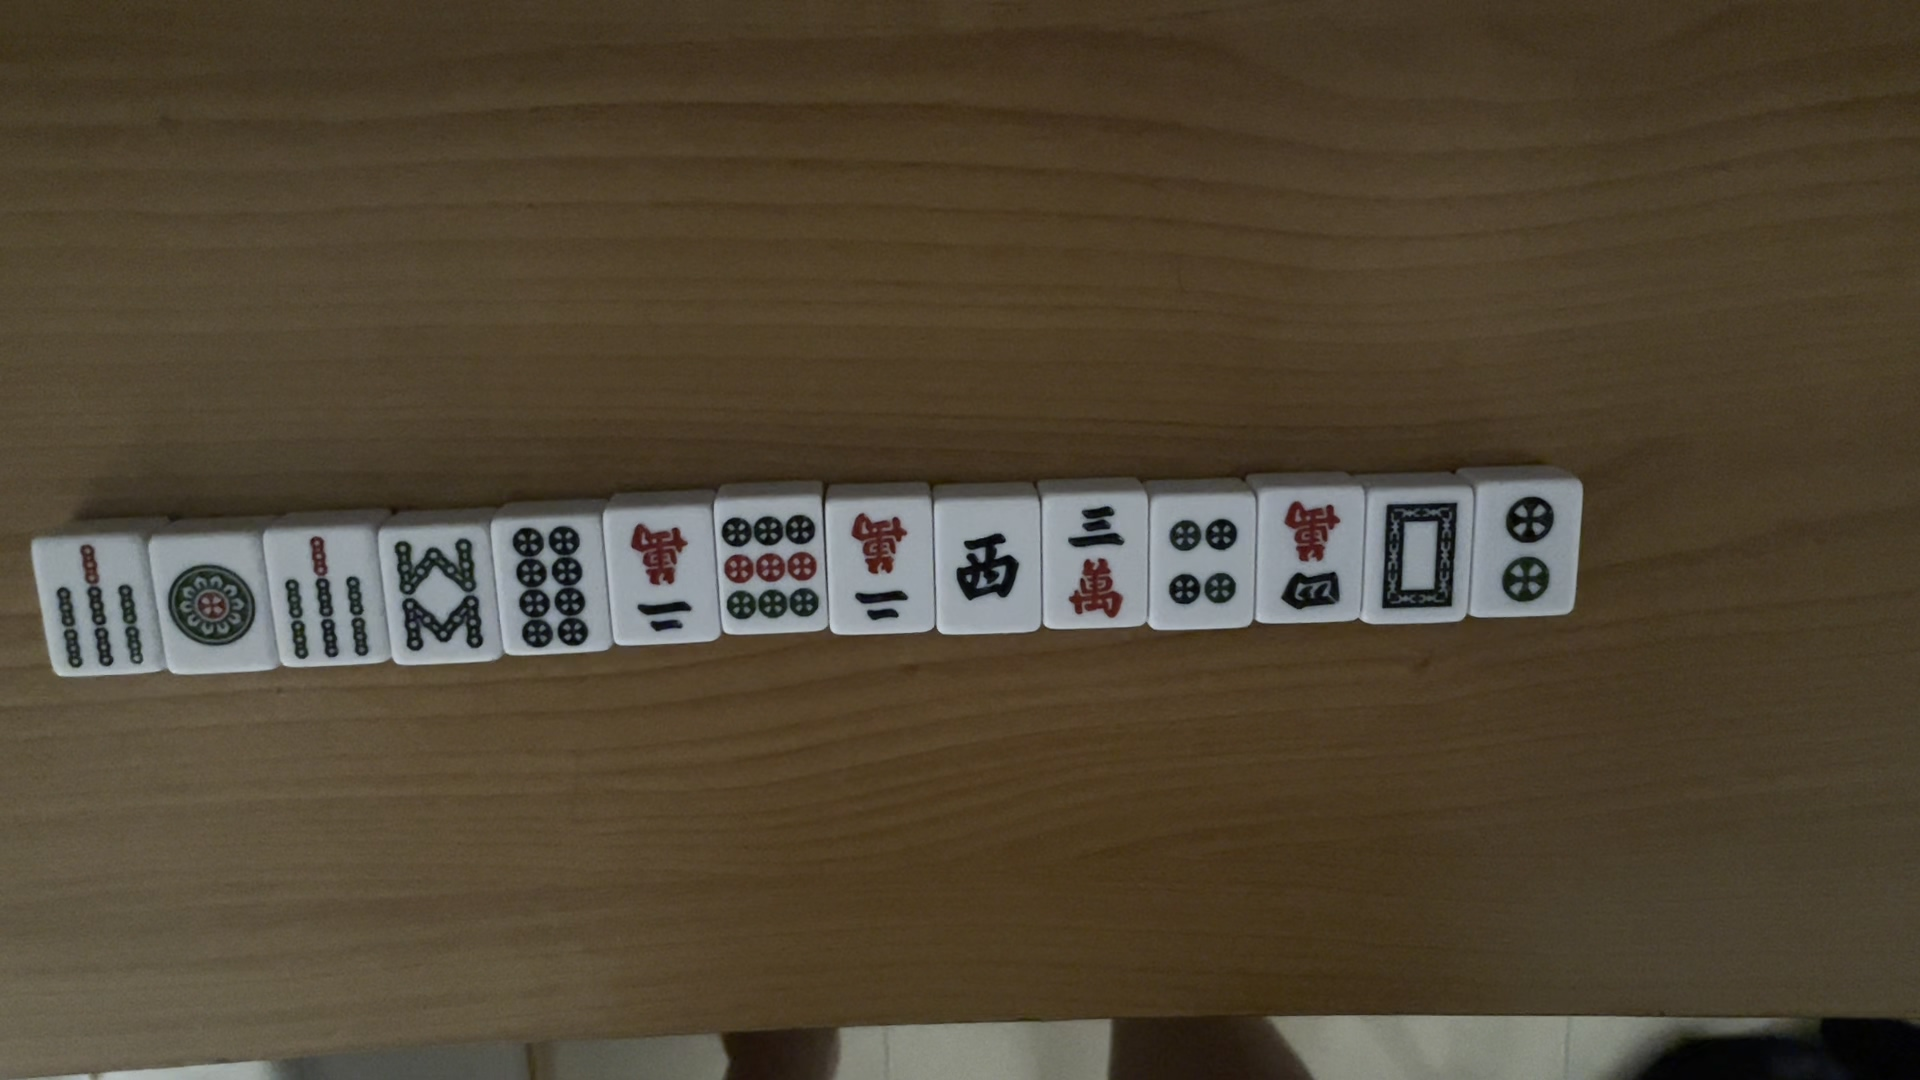b-7: (42, 538, 145, 679), (276, 529, 378, 670)
b-8: (390, 534, 487, 659)
c-2: (622, 517, 700, 641), (847, 501, 913, 630)
c-3: (1060, 495, 1131, 620)
c-4: (1269, 495, 1354, 622)
d-1: (160, 562, 262, 653)
d-2: (1489, 489, 1563, 605)
d-4: (1160, 504, 1247, 615)
d-8: (510, 524, 593, 647)
d-9: (720, 516, 823, 621)
hornors-west: (951, 527, 1019, 609)
hornors-white: (1373, 495, 1457, 617)
